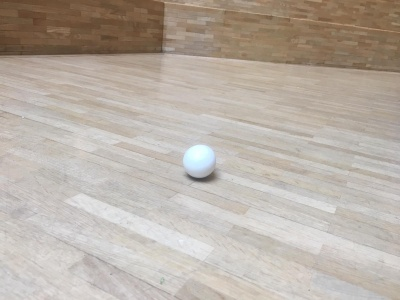egg: (182, 143, 218, 179)
